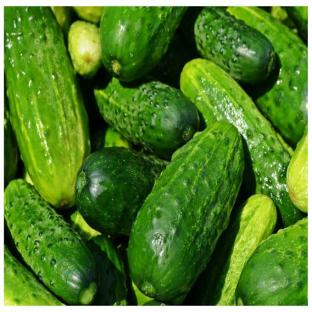Cucumber: (129, 121, 244, 302), (181, 59, 303, 226), (5, 7, 89, 207), (5, 180, 98, 304), (228, 7, 307, 146), (192, 195, 277, 305), (95, 78, 199, 159), (76, 147, 166, 235), (101, 7, 186, 81), (236, 218, 307, 305), (195, 7, 275, 84), (4, 245, 63, 305), (148, 29, 199, 88), (88, 236, 127, 305), (118, 240, 151, 305), (68, 21, 102, 77), (287, 125, 307, 212), (4, 94, 18, 187), (91, 127, 131, 152), (70, 210, 100, 241), (285, 6, 308, 43), (269, 7, 295, 31), (51, 7, 71, 37), (73, 7, 104, 24)
